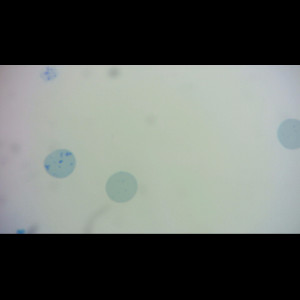aggregate reticulocyte: (42, 147, 78, 180)
punctate reticulocyte: (104, 170, 138, 204)
